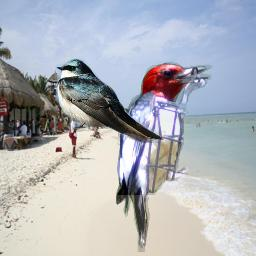Swallow: (55, 58, 164, 143)
Woodpecker: (116, 62, 214, 252)
